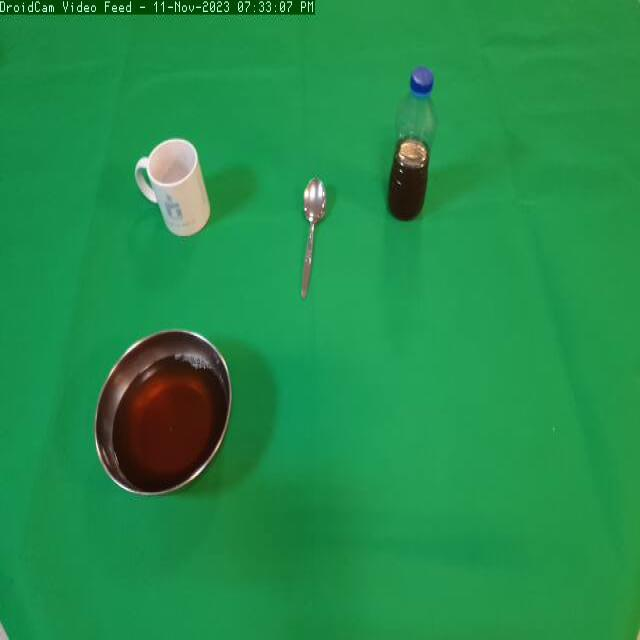cup: (129, 128, 216, 252)
fullbottle: (384, 62, 447, 235)
fullbowl: (87, 324, 240, 514)
spoon: (292, 169, 332, 302)
